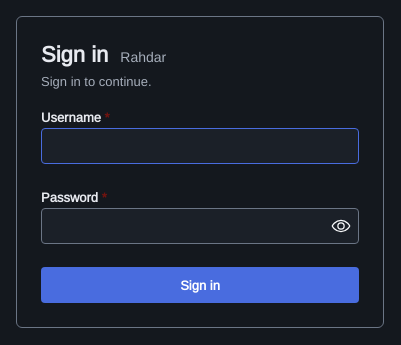
Scenario: LoginView › keeps Sign in live, names what is missing beside each field, focuses the first and sends nothing
This screenshot has width=401, height=345.
Step 1. Click the button "Sign in" → (200, 285), box [41,267,359,303]
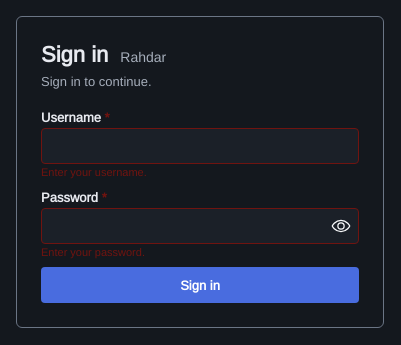
Check: the text "Enter your username." is shown, box [41,165,147,179]
Check: the text "Enter your password." is shown, box [41,245,145,259]
